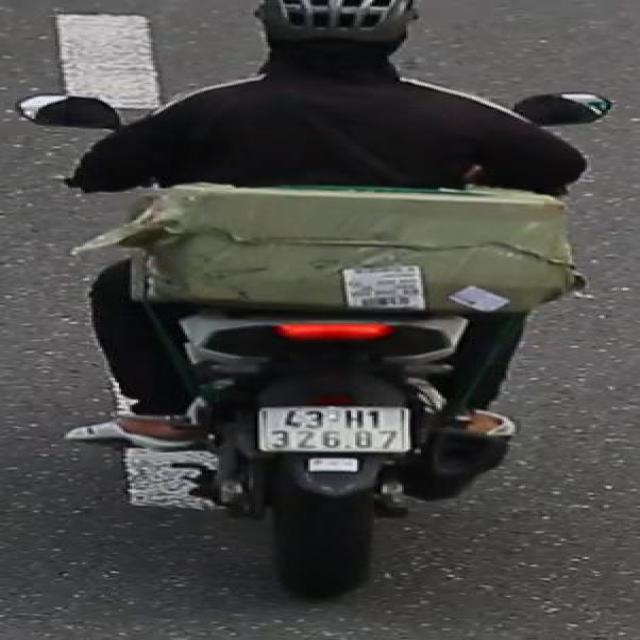LP: (251, 390, 419, 470)
